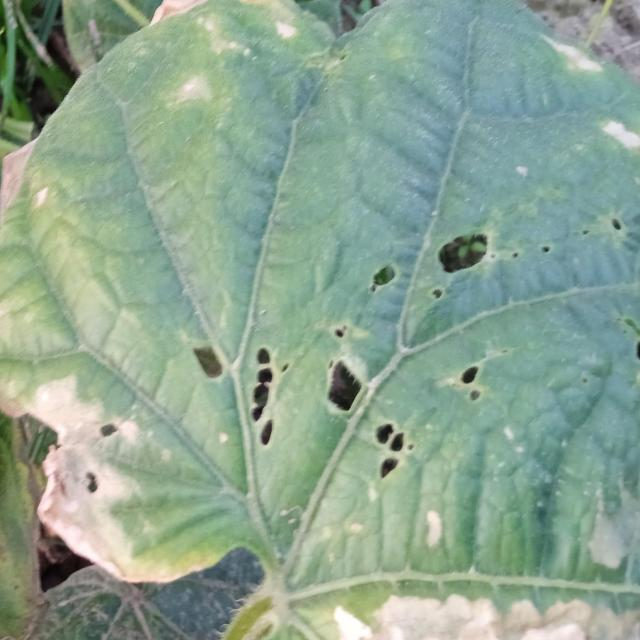cucumber_anthracnose: (32, 96, 637, 552)
